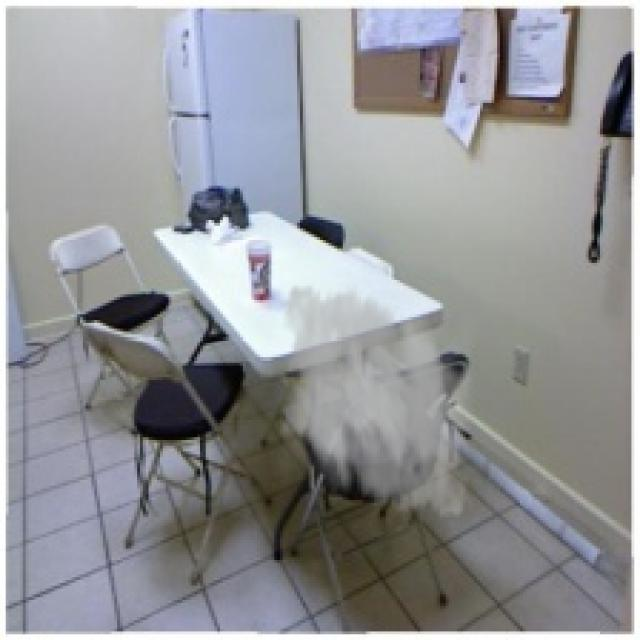smoke: (268, 274, 488, 529)
